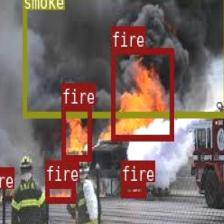fire: (110, 47, 172, 140), (61, 104, 91, 160), (44, 181, 74, 202), (120, 181, 145, 197)
smoke: (21, 0, 224, 116)
